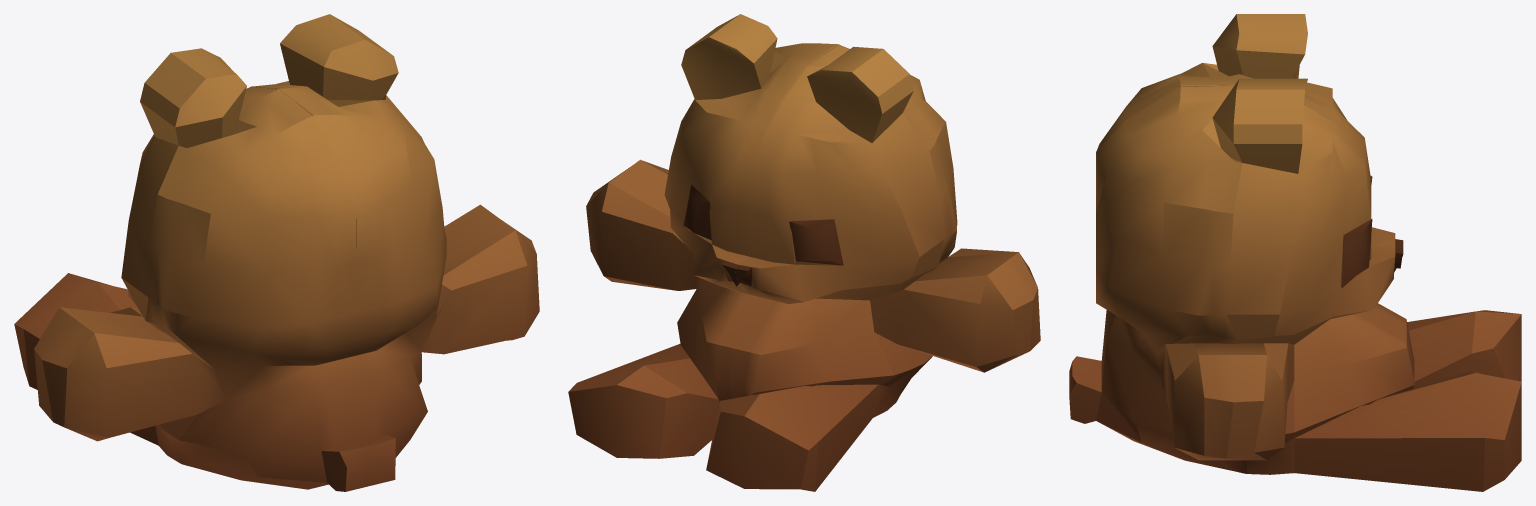
The model's file is teddybear.fbx.
The picture shows the model from 3 angles, left to right: view 1: azimuth 30°, elevation 25°; view 2: azimuth 150°, elevation 25°; view 3: azimuth 270°, elevation 25°; orthographic projection. The views are drawn at different scales.
Parts seen in each view (by area): view 1: teddybear; view 2: teddybear; view 3: teddybear.
Boxes of the visible parts, x1=… form: teddybear: x1=14, y1=14, x2=539, y2=491; teddybear: x1=568, y1=14, x2=1040, y2=491; teddybear: x1=1069, y1=14, x2=1521, y2=491.
Size of the model in its own units: 331 by 256 by 272.
